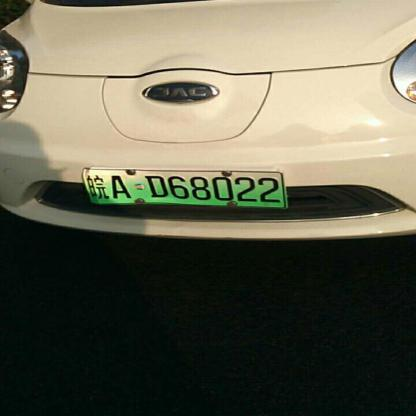lp: (82, 168, 286, 208)
